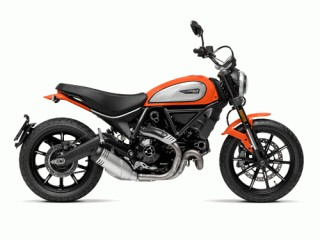motorcycle: (15, 57, 305, 202)
